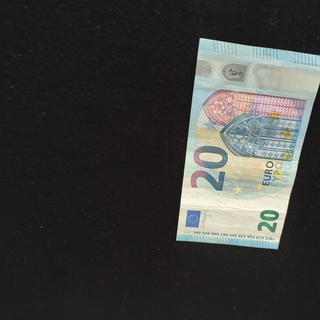20EUROFront: (175, 37, 320, 250)
